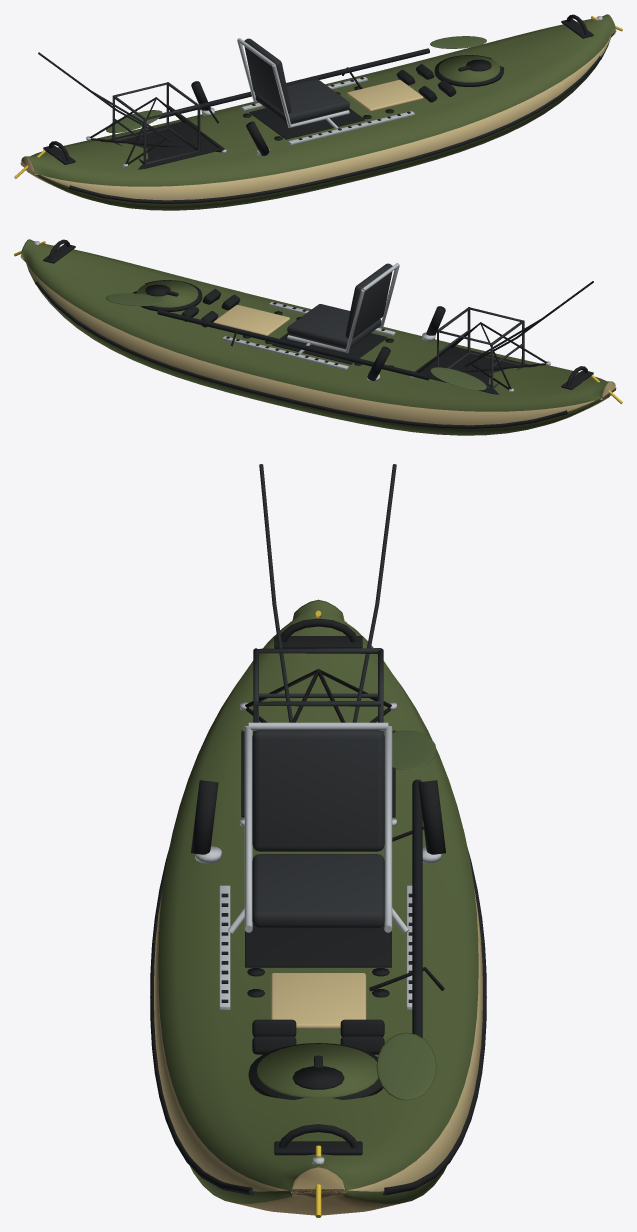
File: kayak.glb
The picture shows the model from 3 angles, top to bottom: view 1: azimuth 30°, elevation 25°; view 2: azimuth 150°, elevation 25°; view 3: azimuth 270°, elevation 25°; orthographic projection. The views are drawn at different scales.
Visible parts, largest first — view 1: hull, rubrail.001, tank_pad, seat_base, seat_back, seat_pad, day_hatch, paddle_shaft, hatch_lid, gear_track.001, paddle_blade, paddle_blade.001 (+8 smaller); view 2: hull, rubrail, seat_base, seat_back, tank_pad, paddle_shaft, day_hatch, seat_pad, hatch_lid, paddle_blade.001, gear_track, paddle_blade (+8 smaller); view 3: hull, seat_back, seat_base, seat_pad, day_hatch, hatch_lid, paddle_blade, paddle_shaft, rubrail, rubrail.001, seat_frame.001, seat_frame (+10 smaller).
Part boxes in pixels (x1=…): hull: x1=20, y1=14, x2=616, y2=210; rubrail.001: x1=69, y1=56, x2=601, y2=203; tank_pad: x1=100, y1=121, x2=224, y2=169; seat_base: x1=255, y1=79, x2=349, y2=122; seat_back: x1=244, y1=38, x2=291, y2=113; seat_pad: x1=249, y1=108, x2=365, y2=139; day_hatch: x1=347, y1=79, x2=423, y2=111; paddle_shaft: x1=158, y1=48, x2=429, y2=118; hatch_lid: x1=438, y1=55, x2=500, y2=82; gear_track.001: x1=288, y1=111, x2=414, y2=144; paddle_blade: x1=430, y1=36, x2=486, y2=48; paddle_blade.001: x1=106, y1=110, x2=162, y2=132; hull: x1=20, y1=239, x2=616, y2=435; rubrail: x1=35, y1=281, x2=567, y2=428; seat_base: x1=287, y1=304, x2=381, y2=347; seat_back: x1=345, y1=263, x2=392, y2=338; tank_pad: x1=415, y1=346, x2=536, y2=394; paddle_shaft: x1=157, y1=309, x2=429, y2=380; day_hatch: x1=213, y1=304, x2=289, y2=335; seat_pad: x1=271, y1=333, x2=387, y2=364; hatch_lid: x1=136, y1=280, x2=198, y2=307; paddle_blade.001: x1=430, y1=367, x2=486, y2=390; gear_track: x1=222, y1=336, x2=348, y2=369; paddle_blade: x1=106, y1=293, x2=162, y2=306; hull: x1=154, y1=599, x2=482, y2=1215; seat_back: x1=252, y1=729, x2=384, y2=851; seat_base: x1=252, y1=854, x2=384, y2=928; seat_pad: x1=245, y1=923, x2=391, y2=967; day_hatch: x1=270, y1=973, x2=366, y2=1029; hatch_lid: x1=257, y1=1043, x2=378, y2=1097; paddle_blade: x1=376, y1=1032, x2=436, y2=1100; paddle_shaft: x1=412, y1=779, x2=422, y2=1037; rubrail: x1=382, y1=848, x2=486, y2=1195; rubrail.001: x1=150, y1=848, x2=254, y2=1195; seat_frame.001: x1=244, y1=726, x2=252, y2=932; seat_frame: x1=384, y1=726, x2=392, y2=932.
Size of the model in its own units: 3.83 by 0.9511 by 0.9174.
